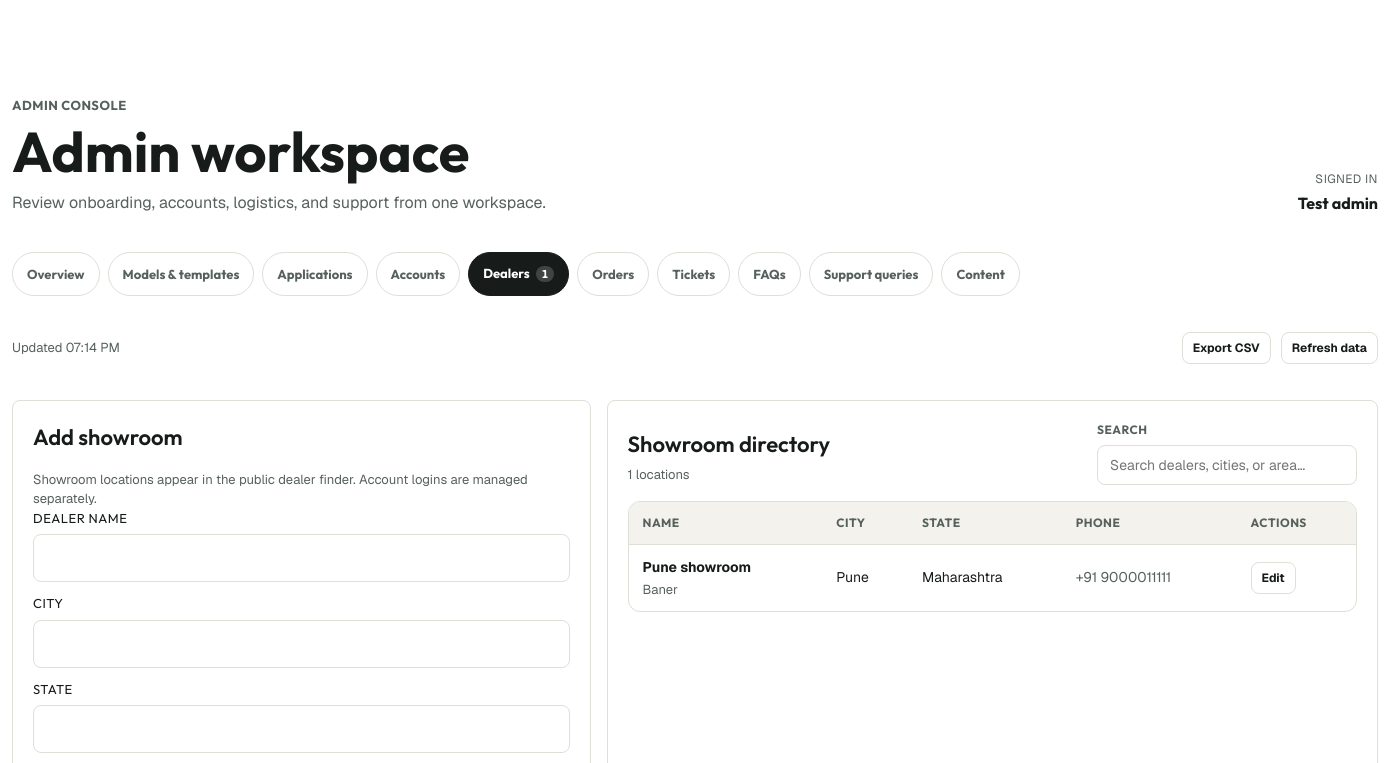
Test: edits an existing showroom using the update endpoint
Click the button with aria-label "Edit Pune showroom" at [1273, 578], box [1251,562,1296,594]
(page scrolled)
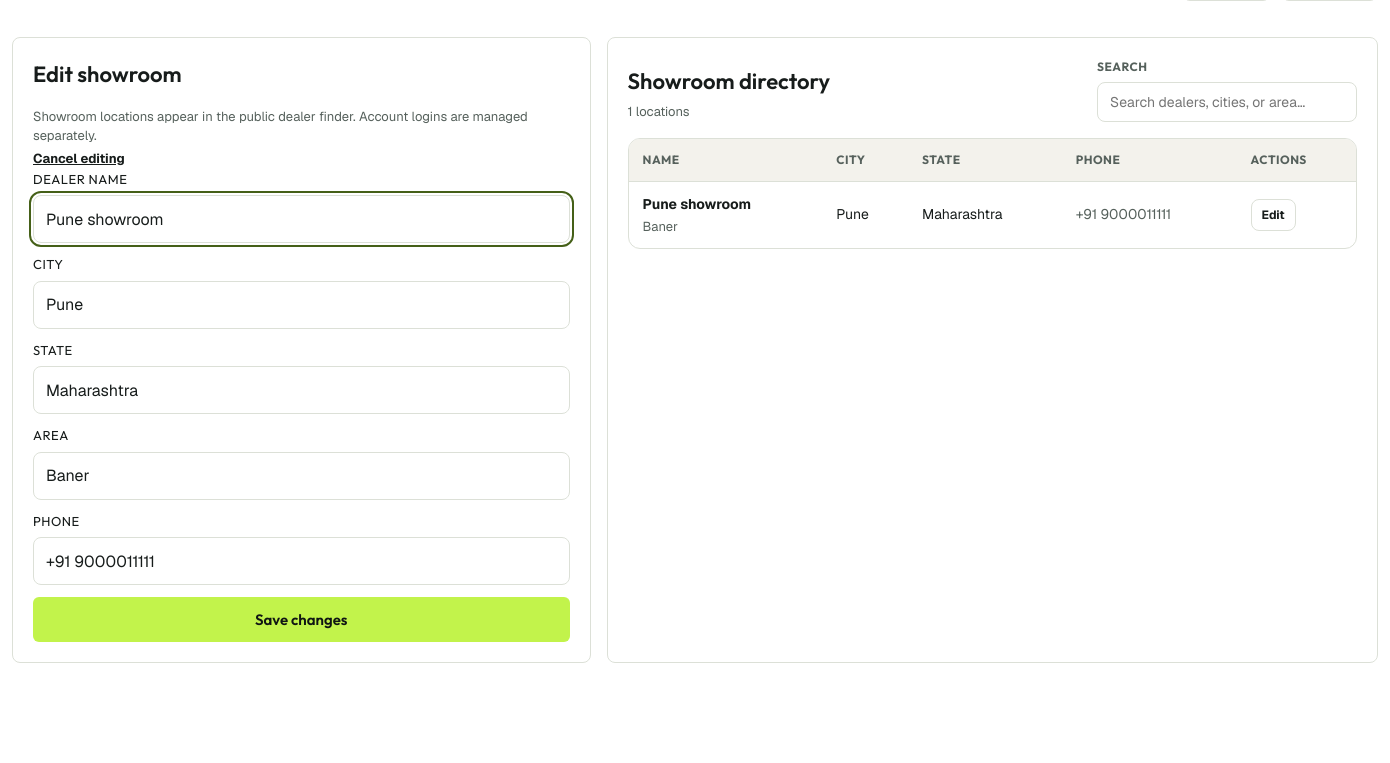
Replace the text in the field labelled "Area" with "Wakad" at [301, 476], box [33,452,570,500]
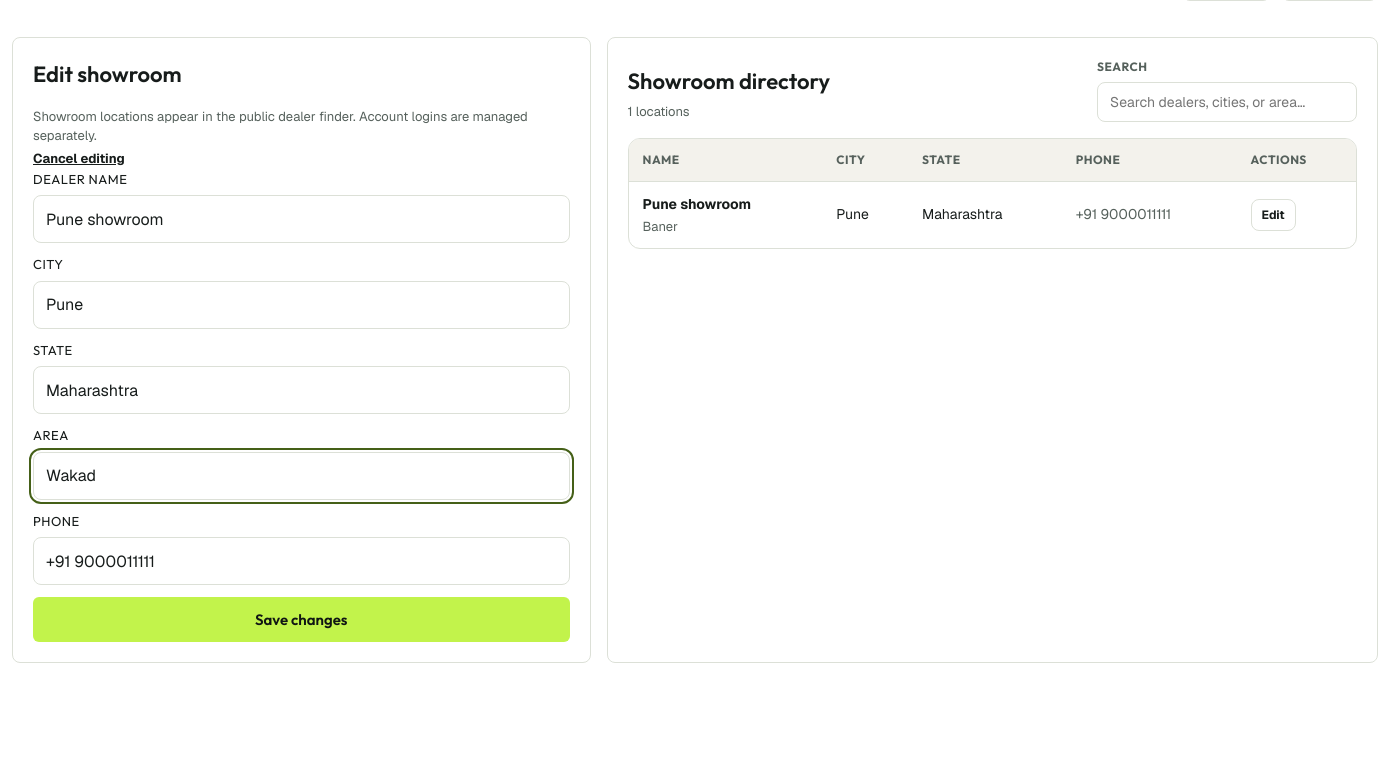
Click the button "Save changes" at [301, 620], box [33,597,570,642]
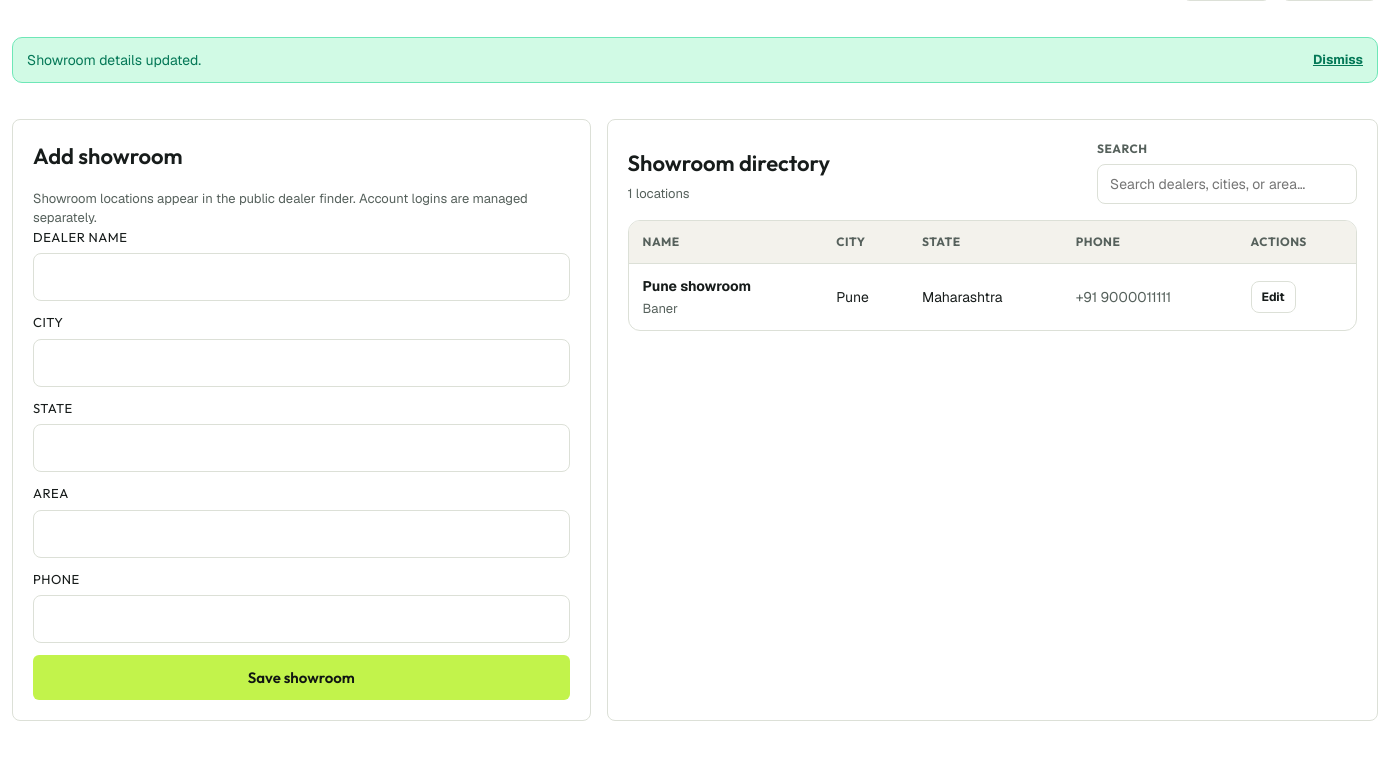
Expected: the text "Showroom details updated." is shown, [27,50,201,70]
